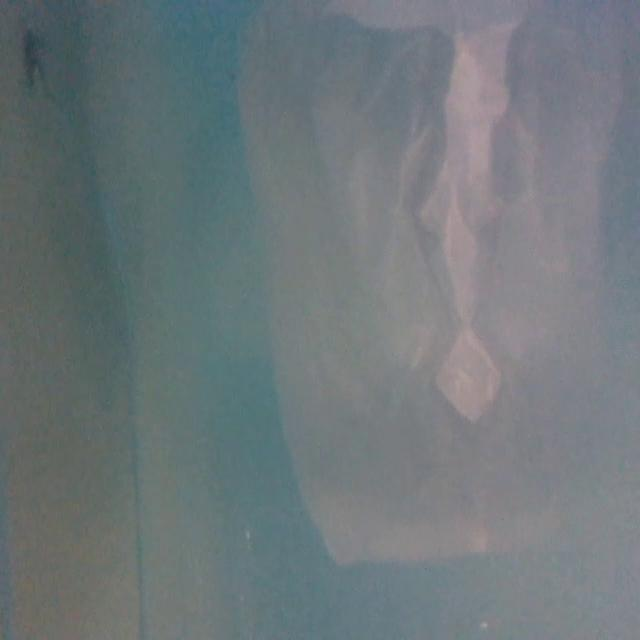plastic bags: (262, 0, 640, 568)
